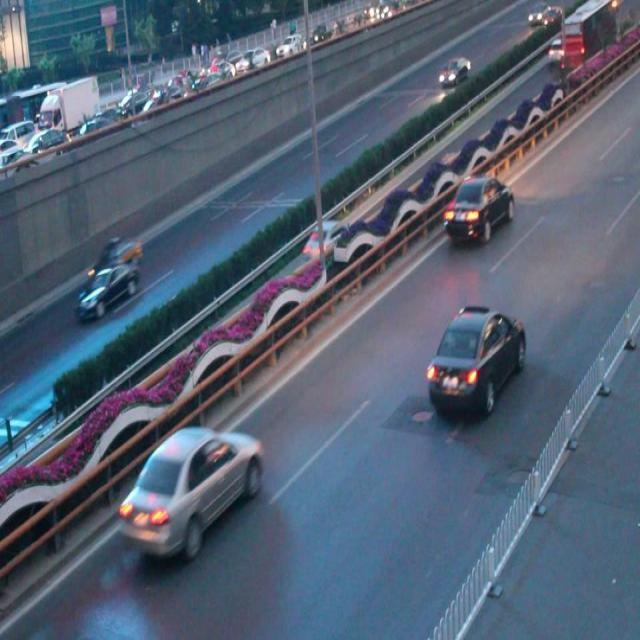car: (120, 425, 264, 554), (426, 303, 524, 414), (442, 174, 514, 247), (76, 268, 138, 318), (302, 218, 349, 266), (93, 238, 144, 273), (436, 57, 470, 89)
